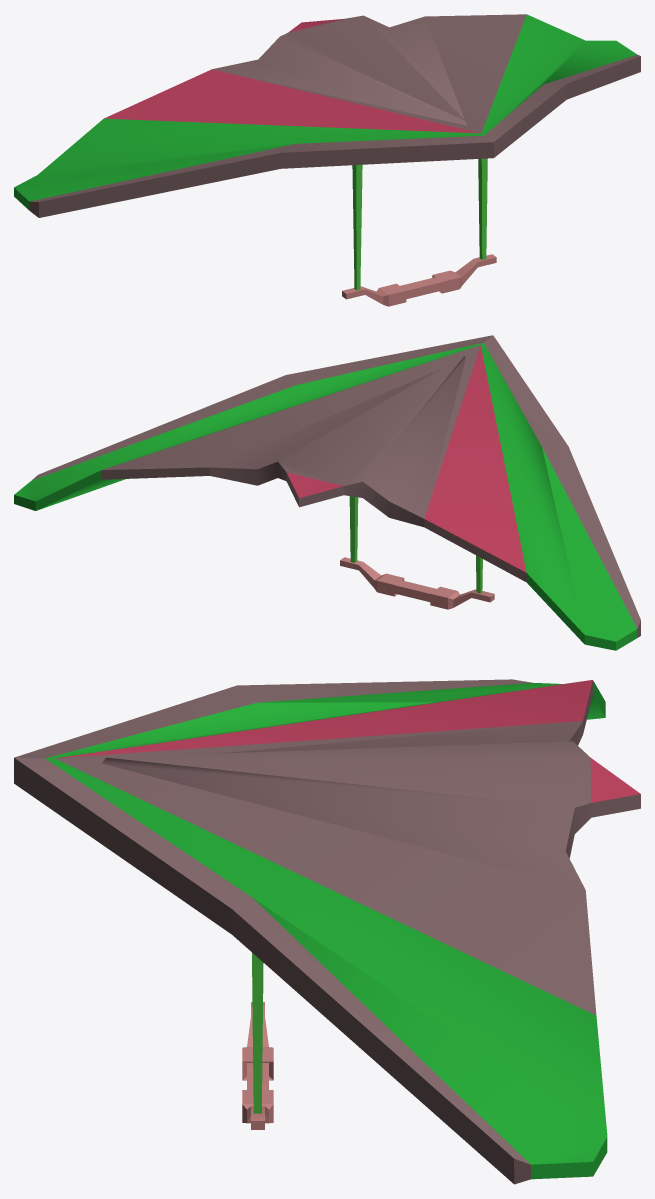
File: glider2.obj
The picture shows the model from 3 angles, top to bottom: view 1: azimuth 30°, elevation 25°; view 2: azimuth 150°, elevation 25°; view 3: azimuth 270°, elevation 25°; orthographic projection. The views are drawn at different scales.
Visible parts, largest first — view 1: glider; view 2: glider; view 3: glider.
Boxes of the visible parts, left/top/right/bottom form: glider: left=14, top=14, right=640, bottom=306; glider: left=14, top=335, right=640, bottom=650; glider: left=14, top=679, right=640, bottom=1184.
Size of the model in its own units: 8.16 by 2.67 by 4.5.
